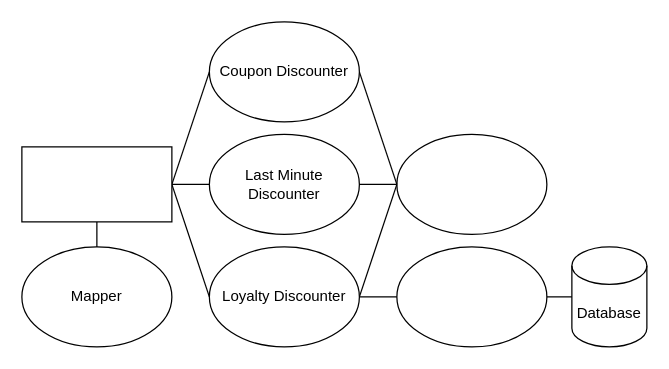
Image size: 669x369. Some labels were removed from this diagram. Here are the shapes that lost their labels. From the top down, the box of each, then its label:
(21, 146, 172, 222): Travel API Controller
(396, 133, 547, 234): DateTime Provider
(396, 246, 547, 347): Travel Provider
